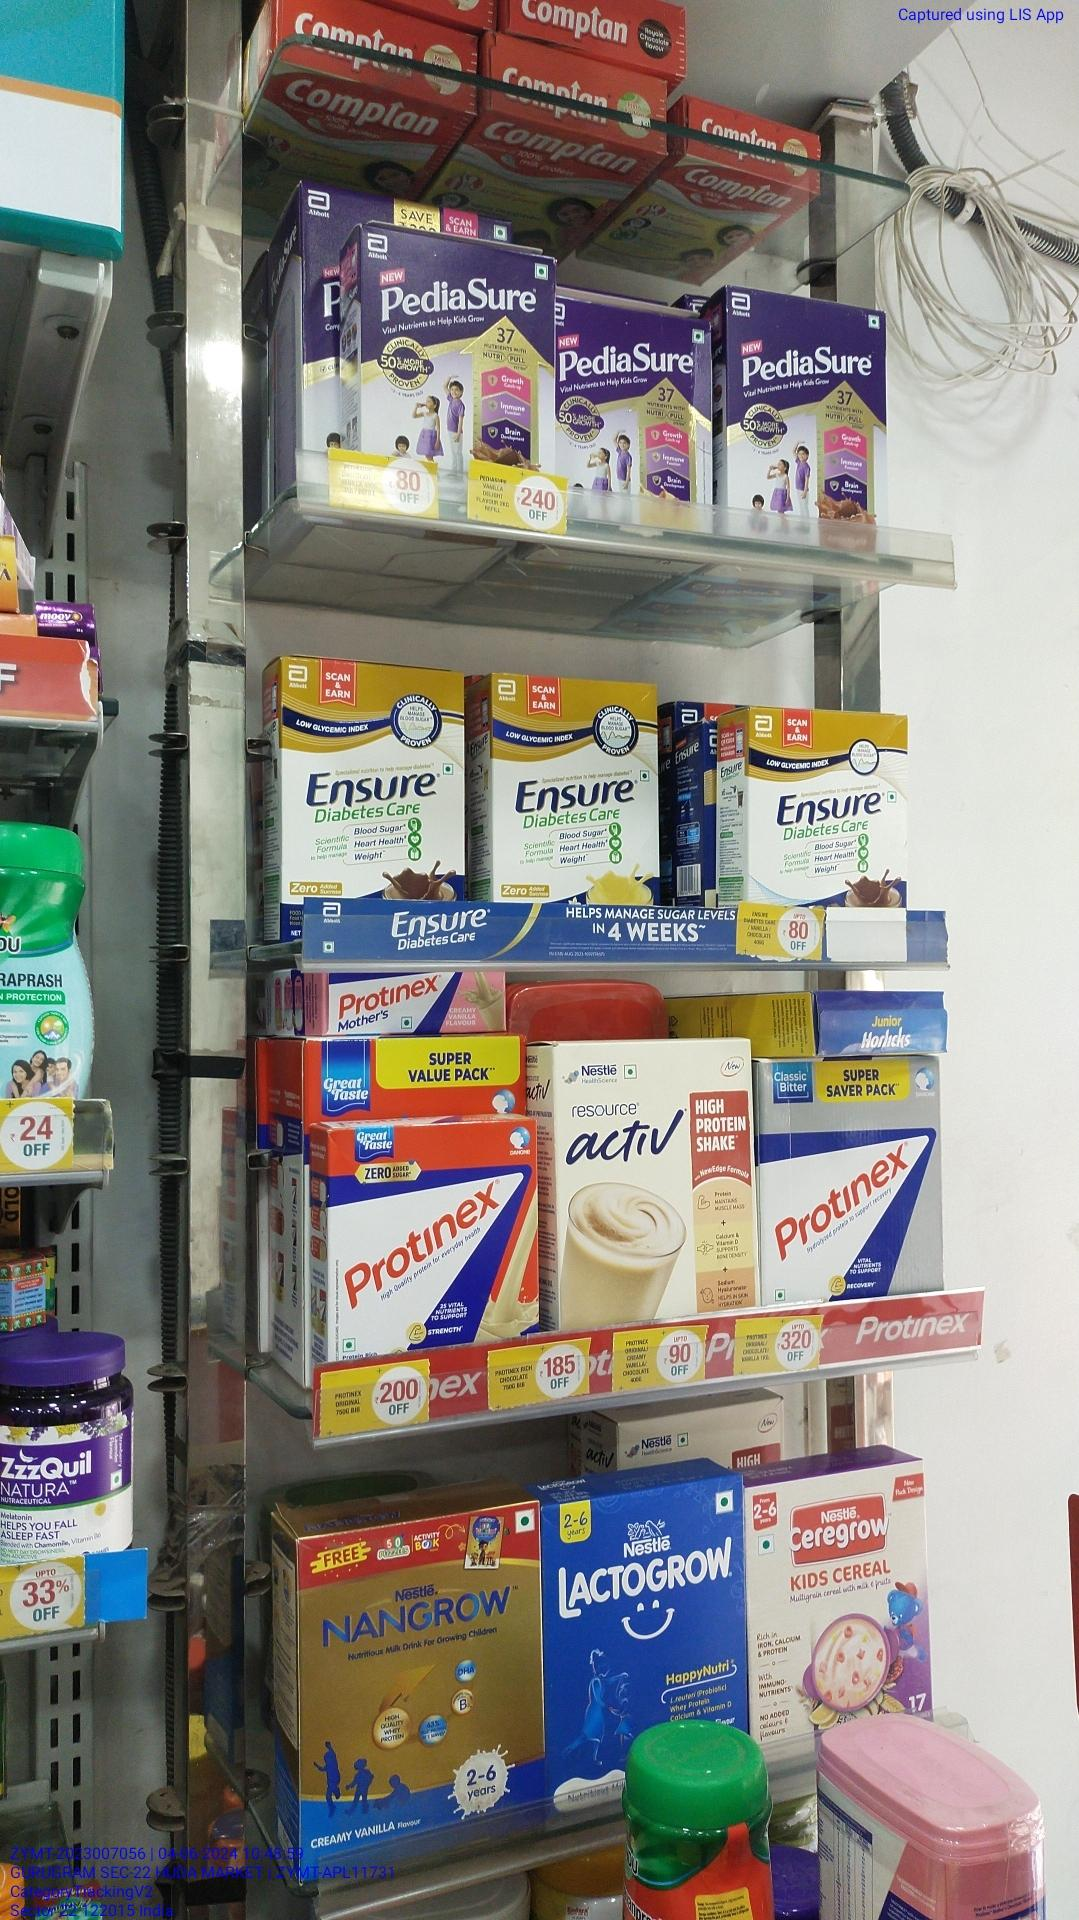PEDIASURE_CHOCOLATE_500_G_PACK: (361, 227, 553, 509), (723, 282, 885, 554)
PEDIASURE_VANILLA_500_G_PACK: (559, 287, 714, 547)
